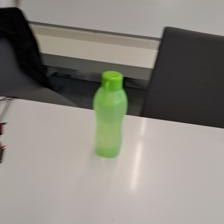bottle: (90, 67, 130, 160)
